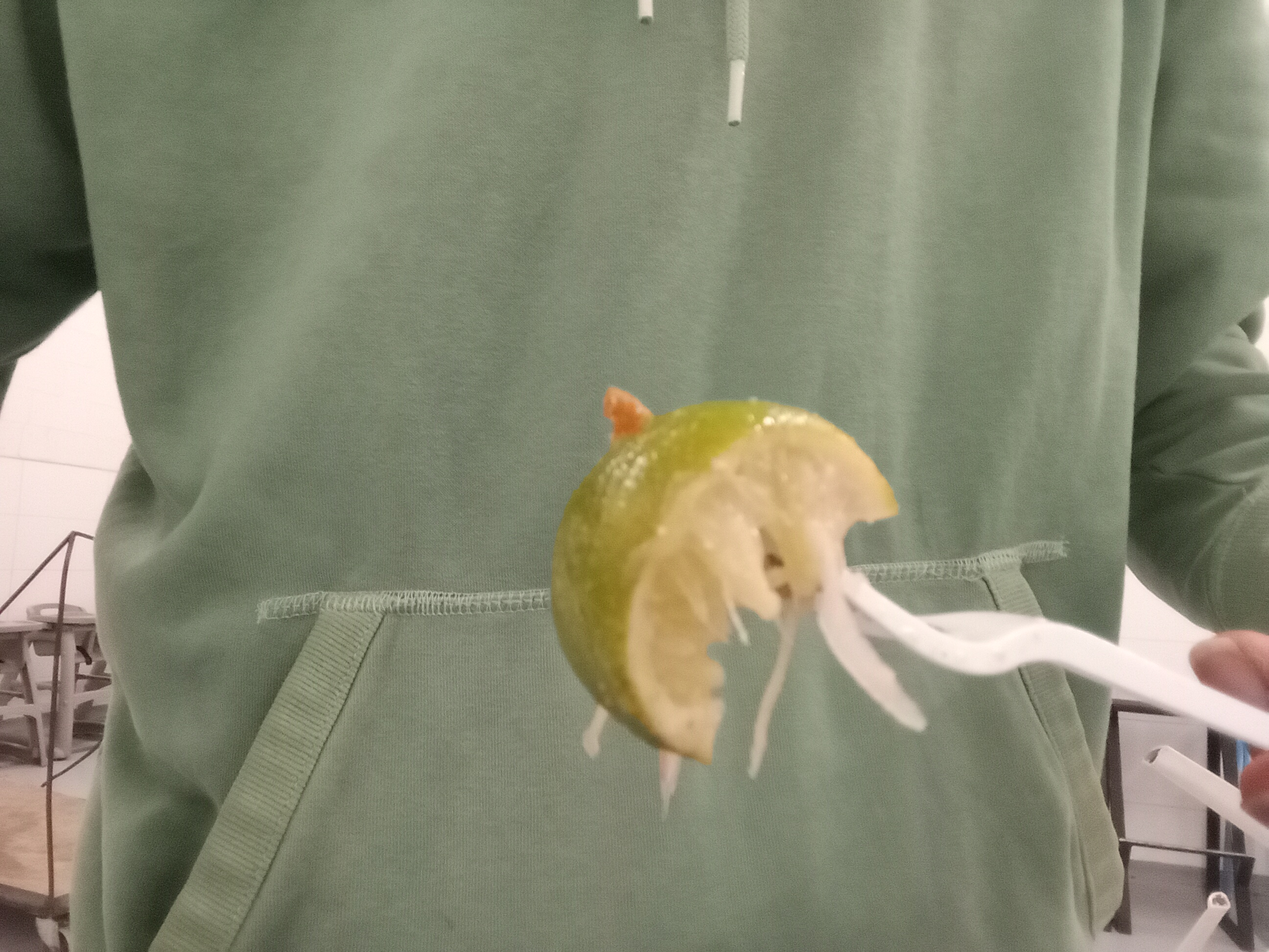Organico: (550, 404, 903, 765)
